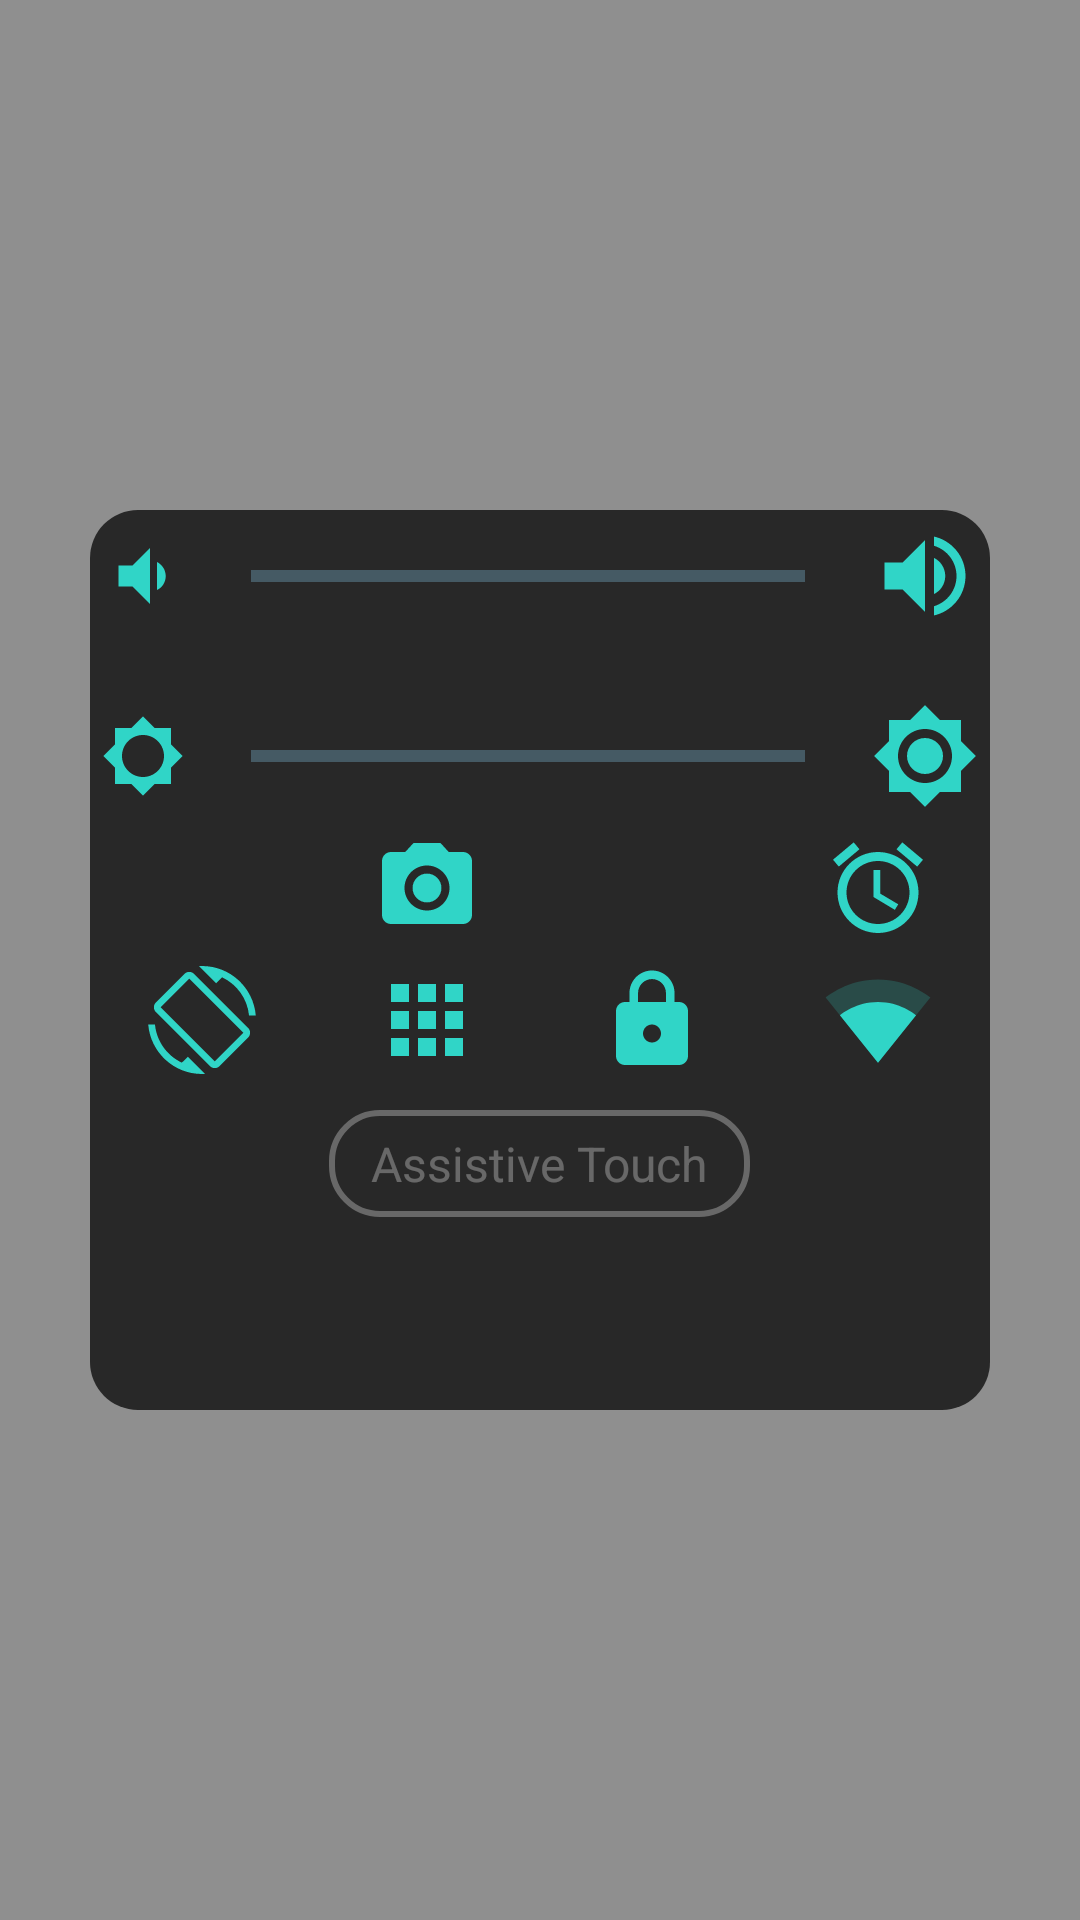

Screen size 1080×1920. Icon name, then its center in pixels as (x,y):
access alarm: (878,887)
apps: (427,1020)
brightness high: (925,756)
brightness low: (143,756)
camera: (427,883)
lock: (652,1017)
network wifi: (878,1021)
screen rotation: (202,1020)
volume down: (142,576)
volume up: (924,576)
